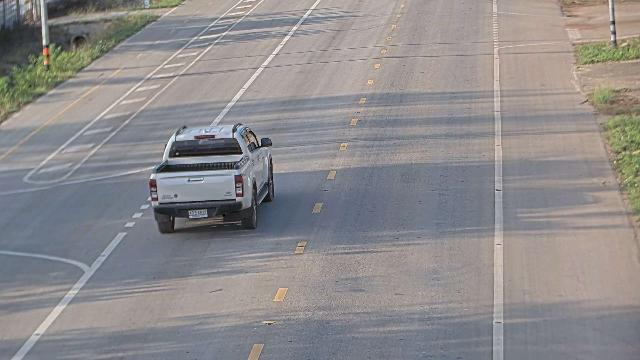pickup-truck: (148, 122, 275, 233)
